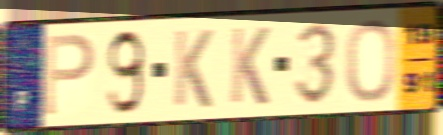3: (290, 19, 339, 107)
9: (105, 28, 147, 117)
K: (228, 24, 272, 108), (171, 27, 215, 110)
O: (345, 17, 397, 105)
P: (42, 32, 96, 119)
